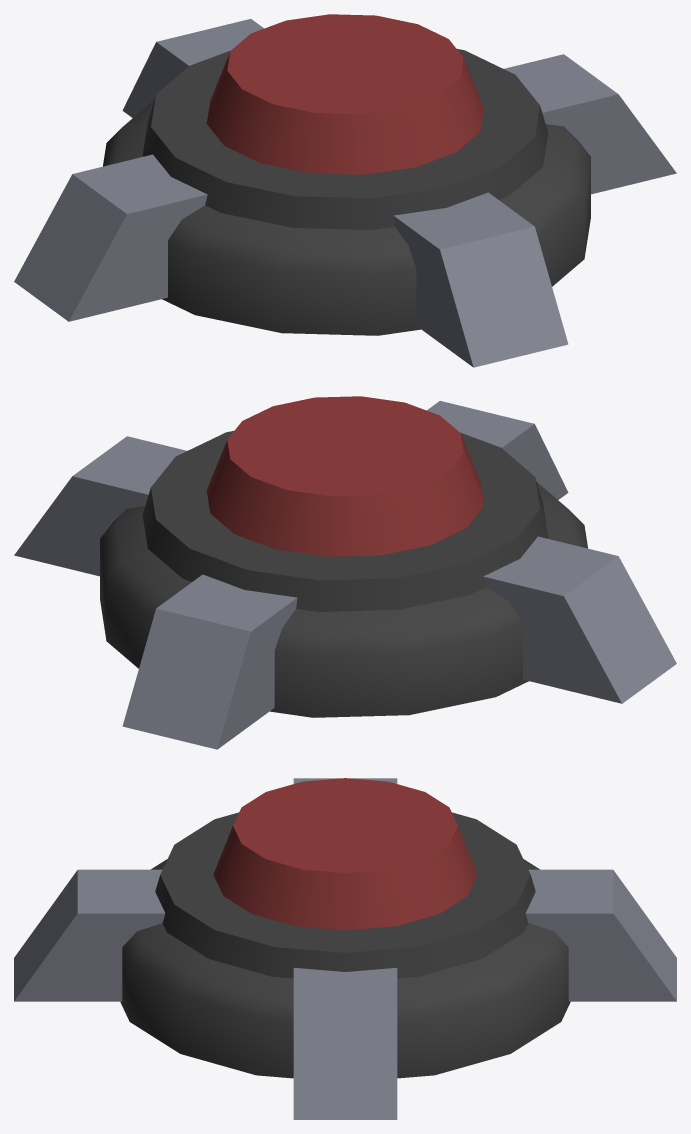
Rendered from mine.glb.
3 renders of one model, top to bottom at view 1: azimuth 30°, elevation 25°; view 2: azimuth 150°, elevation 25°; view 3: azimuth 270°, elevation 25°, orthographic. The views are drawn at different scales.
Visible parts, largest first — view 1: Landmine; view 2: Landmine; view 3: Landmine.
Part boxes in pixels (box(x1,y1,x2,y2)): Landmine: box(14, 14, 676, 367); Landmine: box(14, 396, 676, 749); Landmine: box(14, 778, 676, 1119).
Size of the model in its own units: 1.11 by 0.2942 by 1.11.
